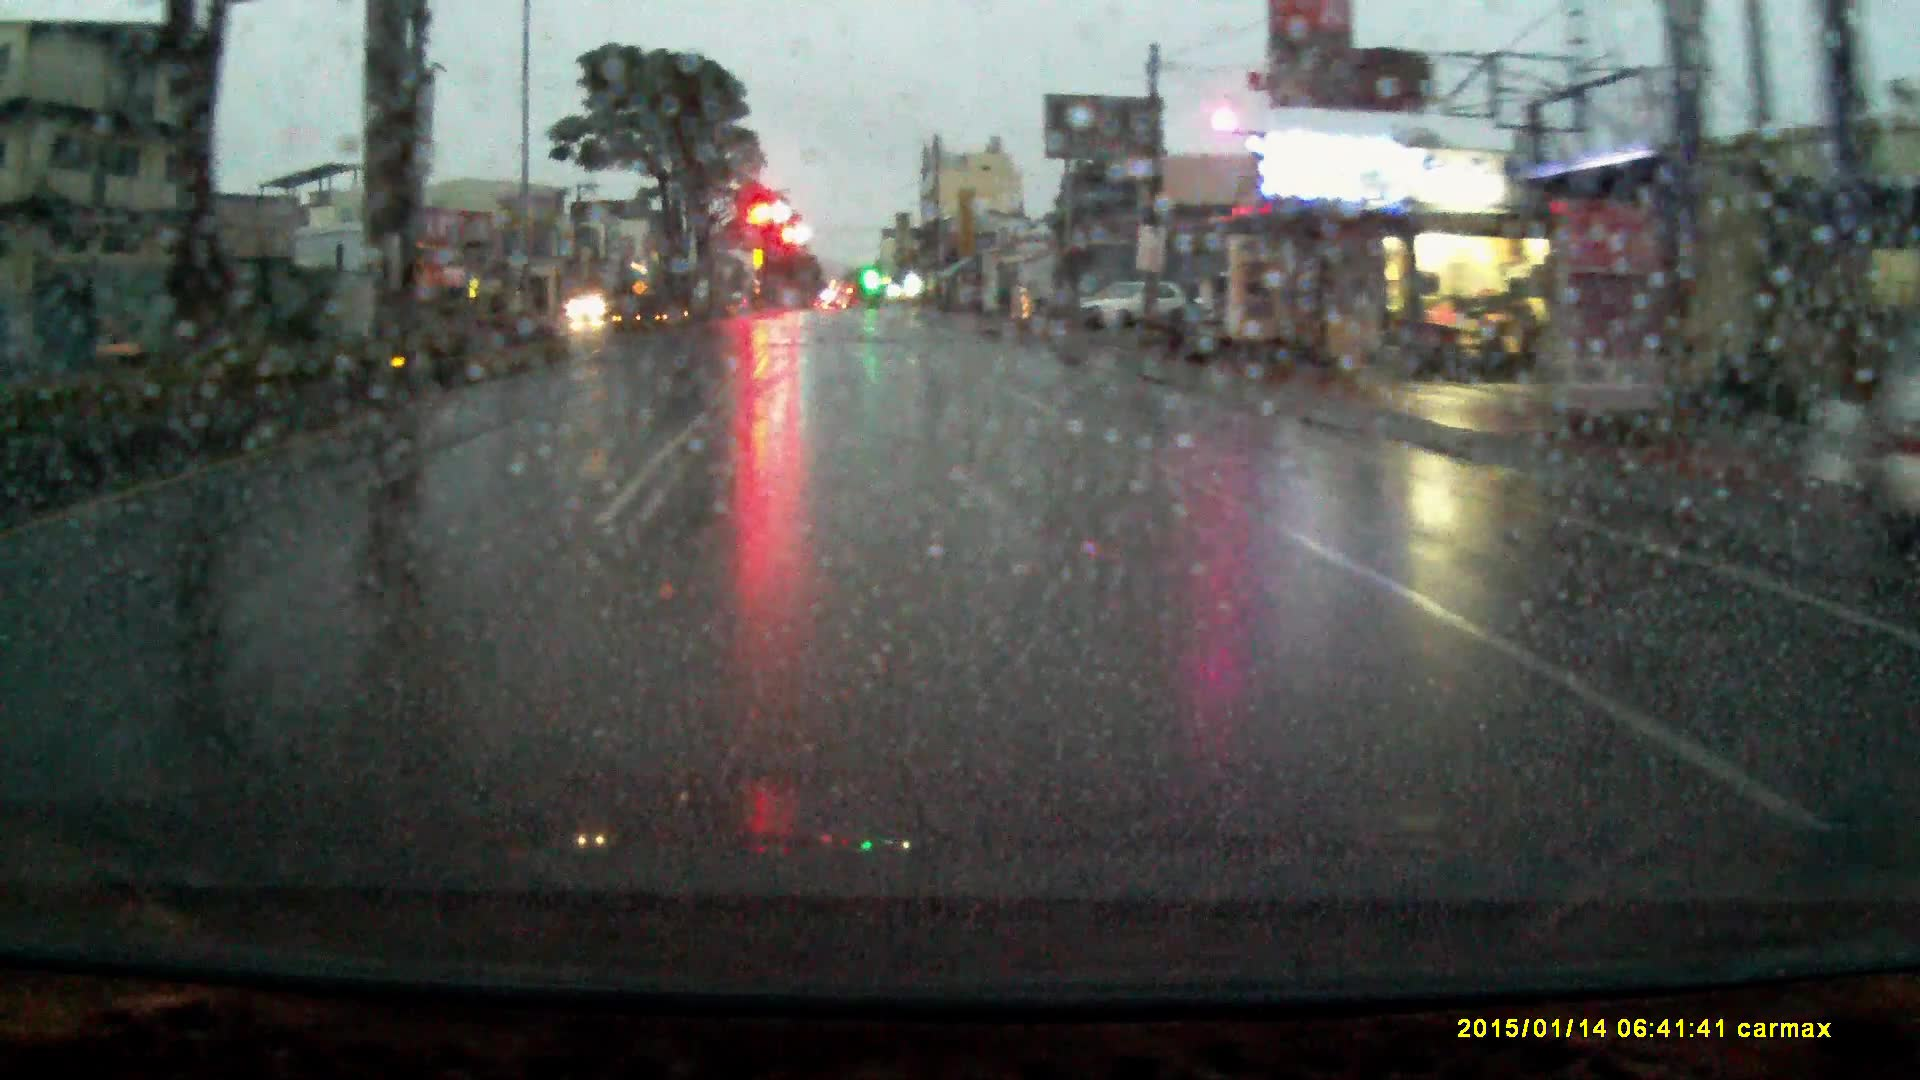vehicle: (1080, 284, 1191, 338), (566, 294, 615, 328)
